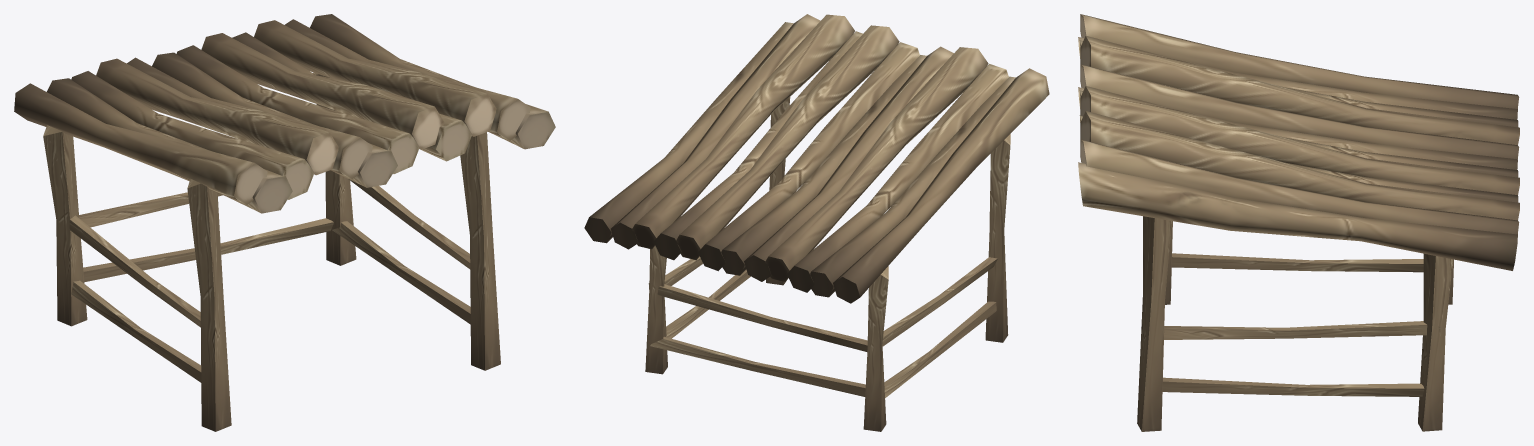
The model's file is Egypt_Village_Props_10.FBX.
3 views of the same model, side by side, from view 1: azimuth 30°, elevation 25°; view 2: azimuth 150°, elevation 25°; view 3: azimuth 270°, elevation 25° (orthographic). The views are drawn at different scales.
Parts seen in each view (by area): view 1: Egypt_Village_Props_10; view 2: Egypt_Village_Props_10; view 3: Egypt_Village_Props_10.
Part boxes in pixels (x1,y1,x2,y2): Egypt_Village_Props_10: (14,14,555,431); Egypt_Village_Props_10: (584,14,1049,431); Egypt_Village_Props_10: (1078,14,1519,431).
Bounding box in the file's own units: 321 × 281 × 382.
